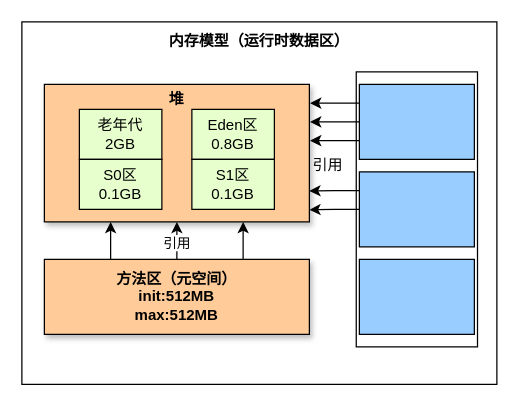
This 519x406 diagram has some shape labels left out. Each missing label, with the centre of its shape:
本地方法栈: (416,209)
程序计数器 （PC寄存器）: (416,296)
线程栈 1MB: (416,121)
